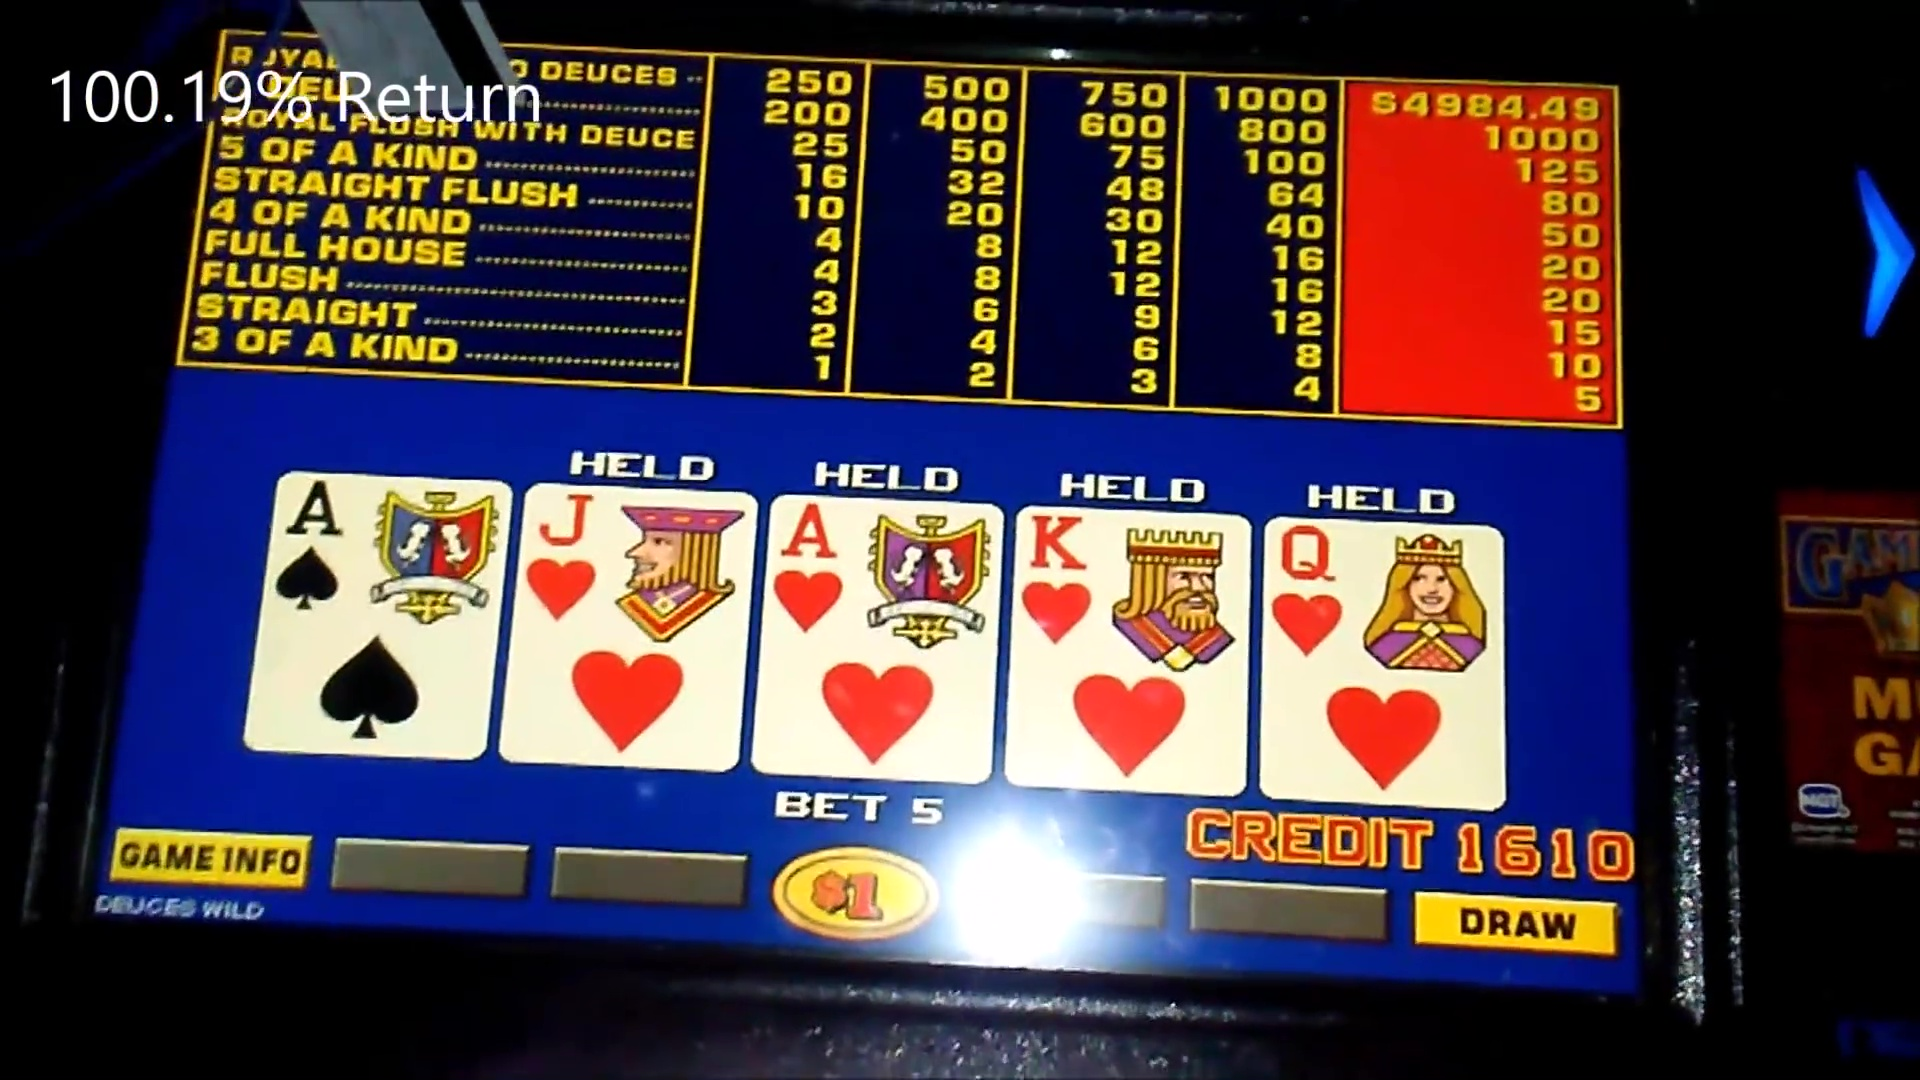HA: (756, 495, 998, 651)
HJ: (517, 489, 756, 642)
HK: (1011, 512, 1255, 666)
HQ: (1265, 522, 1501, 676)
SA: (262, 476, 504, 632)
